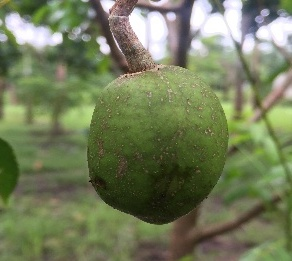Coc: (87, 64, 229, 224)
